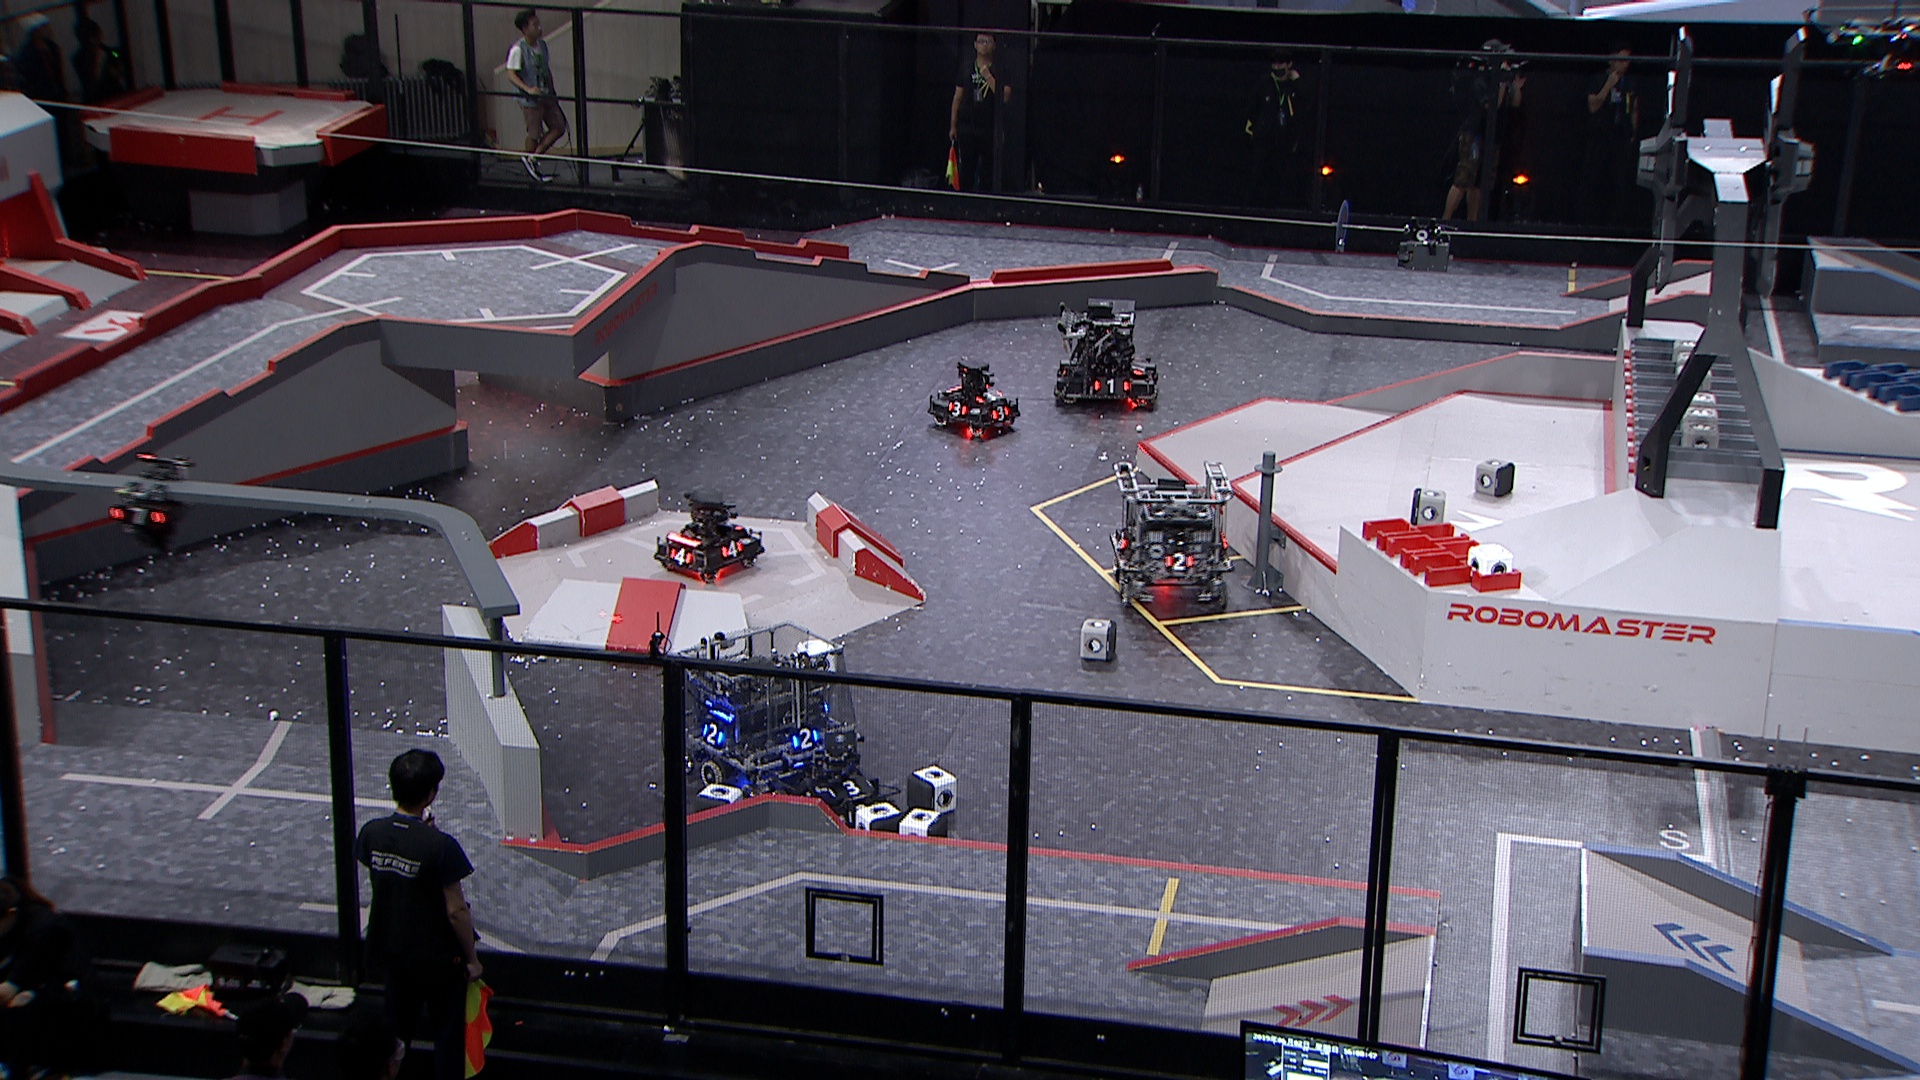armor: (113, 502, 160, 527), (829, 775, 869, 799), (789, 728, 822, 750), (698, 721, 724, 749), (1092, 377, 1130, 396), (1164, 553, 1195, 572), (666, 549, 694, 564), (973, 389, 1001, 404), (992, 404, 1011, 423), (948, 400, 968, 419), (723, 541, 742, 559), (1129, 360, 1149, 376), (1116, 529, 1129, 551)
car: (680, 624, 858, 796), (1106, 456, 1238, 613), (1055, 291, 1164, 414), (655, 487, 766, 578), (795, 741, 899, 832), (926, 357, 1021, 439)
watcher: (105, 448, 196, 556)
